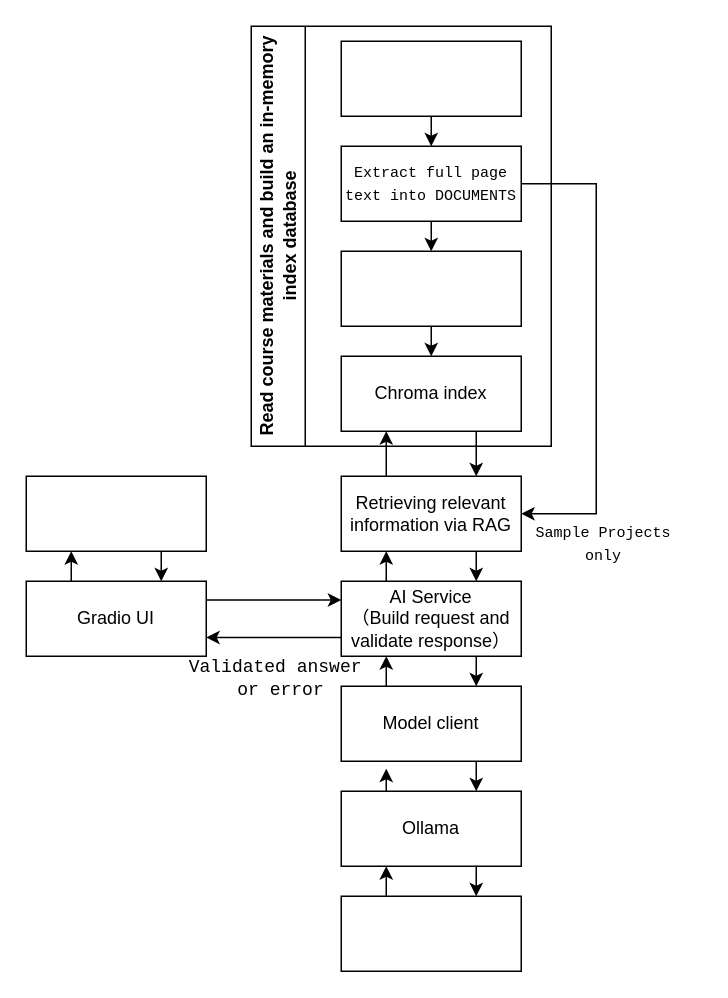
Image size: 728x998. Some labels were removed from this diagram. Each missing label, with the box of its shape:
Course website pages (from sitemap): (340, 40, 521, 116)
Selected Local Model (e.g., qwen3:8b): (340, 895, 521, 971)
Text chunking and embeddings: (340, 250, 521, 326)
User: (25, 475, 206, 551)
